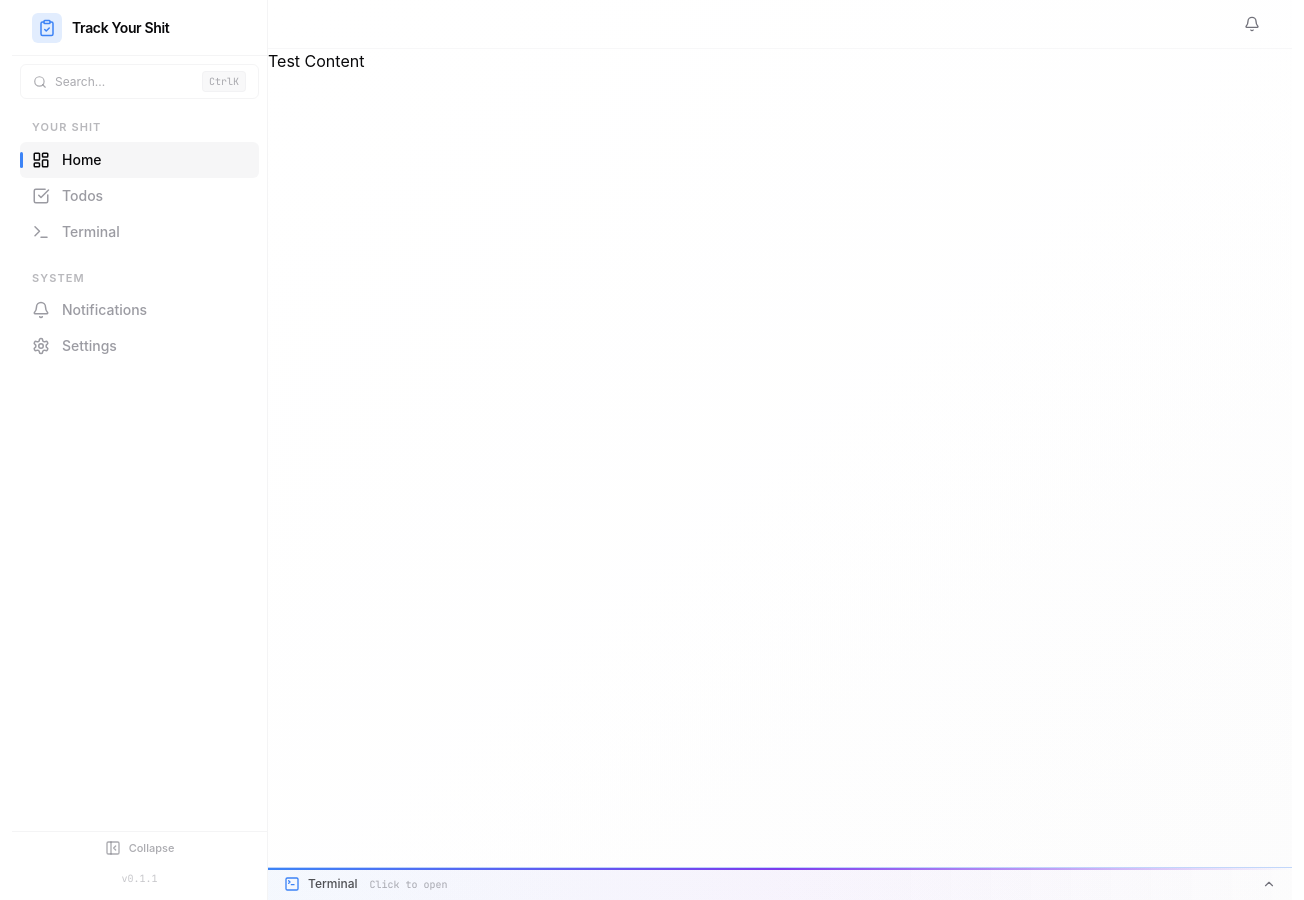
Test case: MainLayout - Collapsible Sidebar › when collapsed, shows PanelLeftOpen icon with tooltip
This screenshot has width=1304, height=900.
# Collapse sidebar
Click the button with aria-label "Collapse sidebar". click: (140, 848)
box: 12,832 -> 267,864
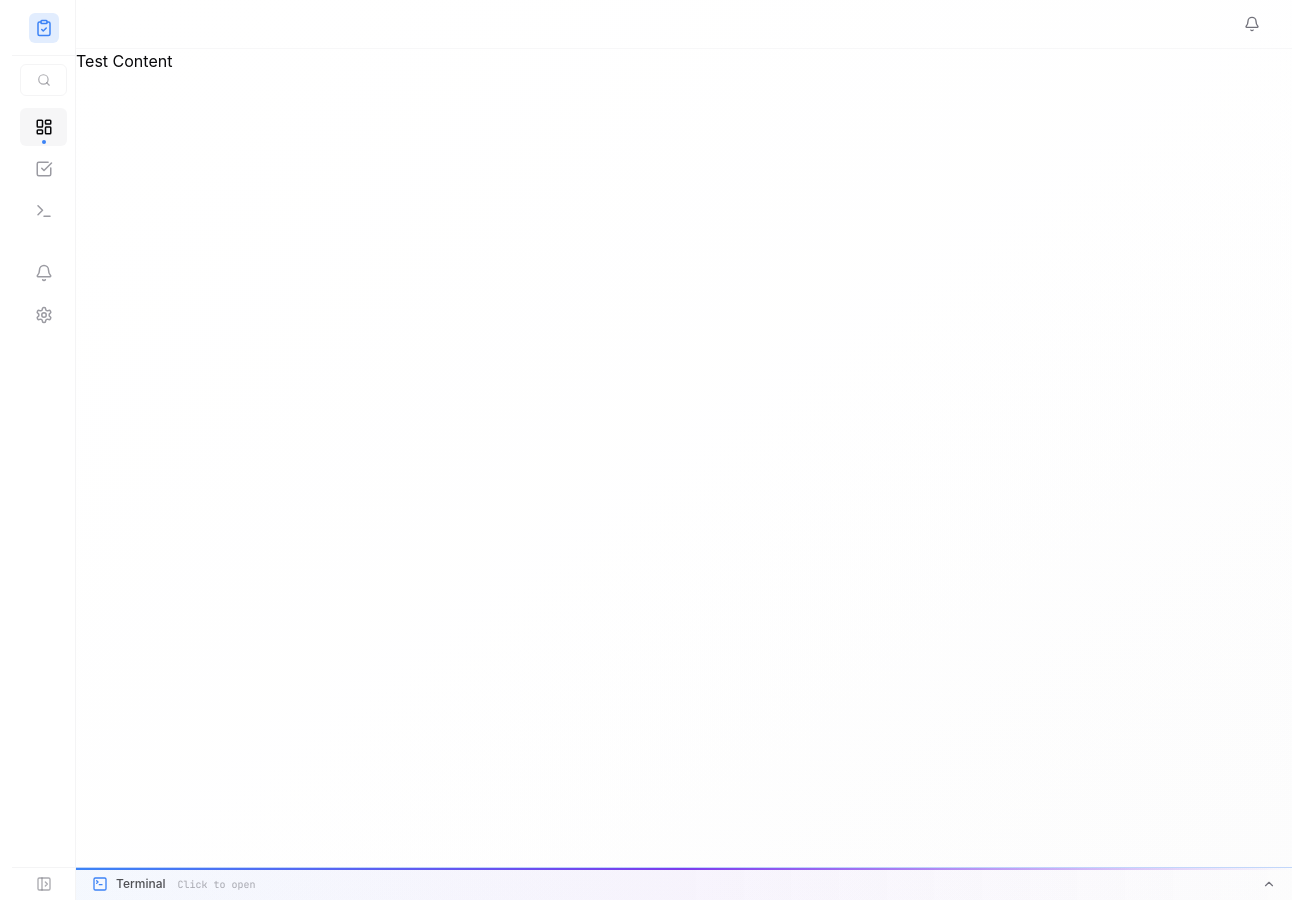
Now the button named "Expand sidebar" is shown, box 12,868 -> 75,899
